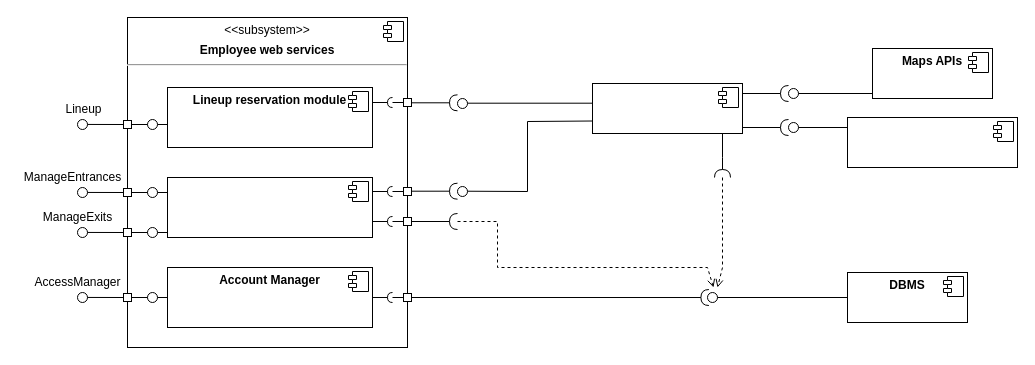
Image size: 1035x365. Some labels were removed from this diagram. The shapes that lost their labels are listed below. From the top down, each one's centre as x and y in pixels, then its label:
the point at 667,108: Queue Manager
the point at 932,142: OS Notif. Gateway
the point at 269,207: Entrances and exits mod.
